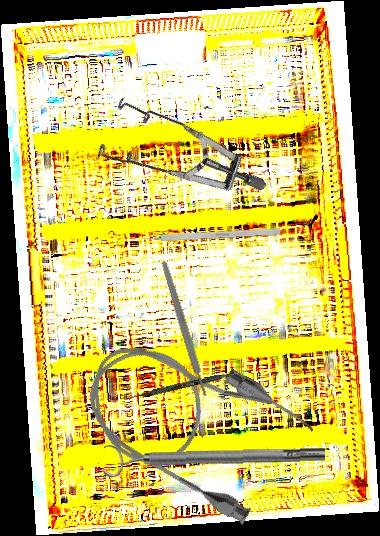Cannula: (65, 311, 321, 533)
Fixation Ring: (103, 438, 326, 478)
Hook Surgical: (133, 228, 281, 243)
Scalpel Handle: (160, 260, 209, 398)
Spatula Surgical: (125, 365, 251, 404)
Speculum: (78, 59, 268, 257)
